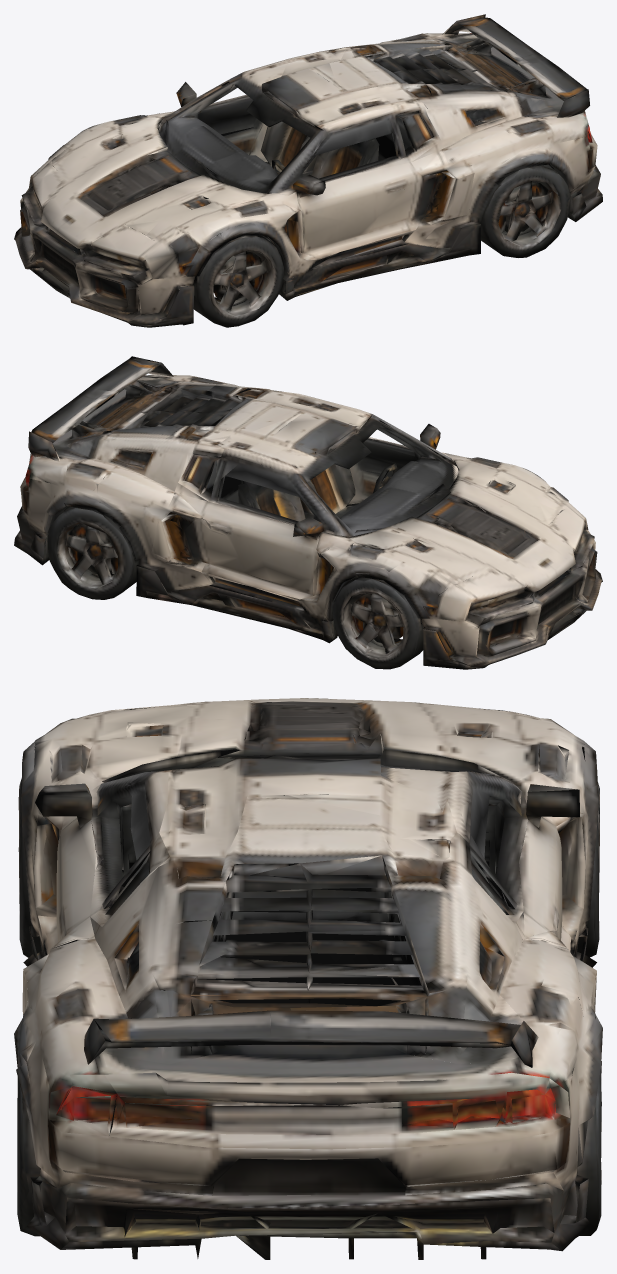
Rendered from cybercar1_parts_textured.glb.
The picture shows the model from 3 angles, top to bottom: view 1: azimuth 30°, elevation 25°; view 2: azimuth 150°, elevation 25°; view 3: azimuth 270°, elevation 25°; orthographic projection. The views are drawn at different scales.
Visible parts, largest first — view 1: car_part_00, car_part_01, car_part_02, car_part_13, wheel_rear_left, wheel_front_left, car_part_06, car_part_07, car_part_12; view 2: car_part_00, car_part_01, car_part_02, car_part_08, wheel_front_right, wheel_rear_right, car_part_06, car_part_07, car_part_09; view 3: car_part_00, car_part_02, car_part_01, car_part_06, car_part_07, car_part_14, car_part_13, car_part_08, wheel_rear_left, wheel_rear_right, wheel_front_left, wheel_front_right.
Boxes of the visible parts, left/top/right/bottom form: car_part_00: left=14, top=33, right=602, bottom=327; car_part_01: left=158, top=53, right=441, bottom=195; car_part_02: left=329, top=34, right=562, bottom=161; car_part_13: left=296, top=162, right=437, bottom=260; wheel_rear_left: left=480, top=164, right=570, bottom=257; wheel_front_left: left=193, top=235, right=283, bottom=327; car_part_06: left=262, top=48, right=414, bottom=129; car_part_07: left=442, top=14, right=589, bottom=117; car_part_12: left=423, top=172, right=474, bottom=222; car_part_00: left=14, top=375, right=602, bottom=669; car_part_01: left=178, top=395, right=458, bottom=536; car_part_02: left=53, top=373, right=304, bottom=491; car_part_08: left=178, top=493, right=320, bottom=599; wheel_front_right: left=332, top=576, right=423, bottom=669; wheel_rear_right: left=47, top=506, right=137, bottom=599; car_part_06: left=200, top=390, right=370, bottom=455; car_part_07: left=28, top=356, right=173, bottom=461; car_part_09: left=151, top=514, right=193, bottom=564; car_part_00: left=14, top=698, right=602, bottom=1259; car_part_02: left=90, top=796, right=523, bottom=1064; car_part_01: left=35, top=755, right=579, bottom=926; car_part_06: left=159, top=758, right=456, bottom=860; car_part_07: left=84, top=997, right=538, bottom=1067; car_part_14: left=200, top=855, right=421, bottom=1006; car_part_13: left=38, top=816, right=104, bottom=954; car_part_08: left=519, top=816, right=570, bottom=951; wheel_rear_left: left=17, top=1077, right=40, bottom=1236; wheel_rear_right: left=577, top=1061, right=601, bottom=1235; wheel_front_left: left=18, top=778, right=41, bottom=957; wheel_front_right: left=577, top=783, right=599, bottom=957.
Size of the model in its own units: 0.9795 by 0.2911 by 0.5.
Materials: 1 (1 with a texture image).
